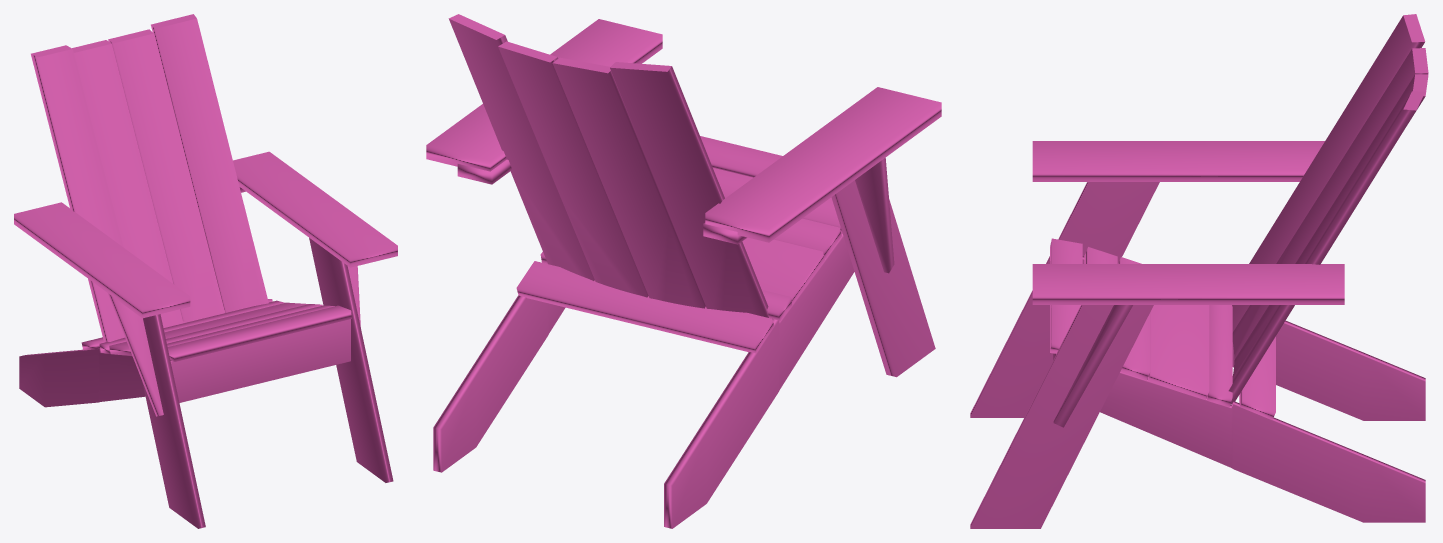
Rendered from 8b9ee2b6-5043-40ed-aaf9-187d23b0c1dc.glb.
3 renders of one model, left to right at view 1: azimuth 30°, elevation 25°; view 2: azimuth 150°, elevation 25°; view 3: azimuth 270°, elevation 25°, orthographic. The views are drawn at different scales.
Visible parts, largest first — view 1: AdirondackChair.007; view 2: AdirondackChair.007; view 3: AdirondackChair.007.
Part boxes in pixels (box(x1,y1,x2,y2)): AdirondackChair.007: box(14, 14, 397, 528); AdirondackChair.007: box(426, 14, 941, 528); AdirondackChair.007: box(970, 14, 1428, 528).
Size of what is drawn, in the model's own units: 1.07 by 1.35 by 1.37.
1 material, 1 textured.
